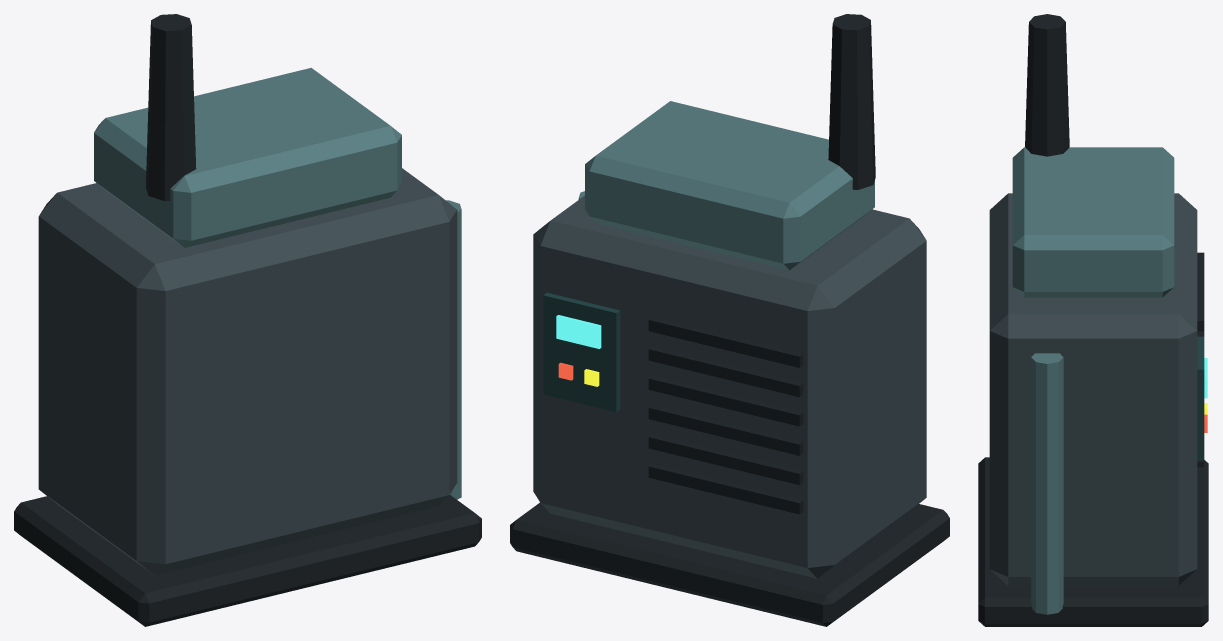
Rendered from Env_Generator.fbx.
3 views of the same model, side by side, from view 1: azimuth 30°, elevation 25°; view 2: azimuth 150°, elevation 25°; view 3: azimuth 270°, elevation 25° (orthographic). The views are drawn at different scales.
Visible parts, largest first — view 1: Env_Generator; view 2: Env_Generator; view 3: Env_Generator.
Part boxes in pixels (x1,y1,x2,y2): Env_Generator: [14, 14, 481, 626]; Env_Generator: [510, 14, 949, 626]; Env_Generator: [978, 14, 1208, 626].
Size of the model in its own units: 1.56 by 1 by 2.35.
